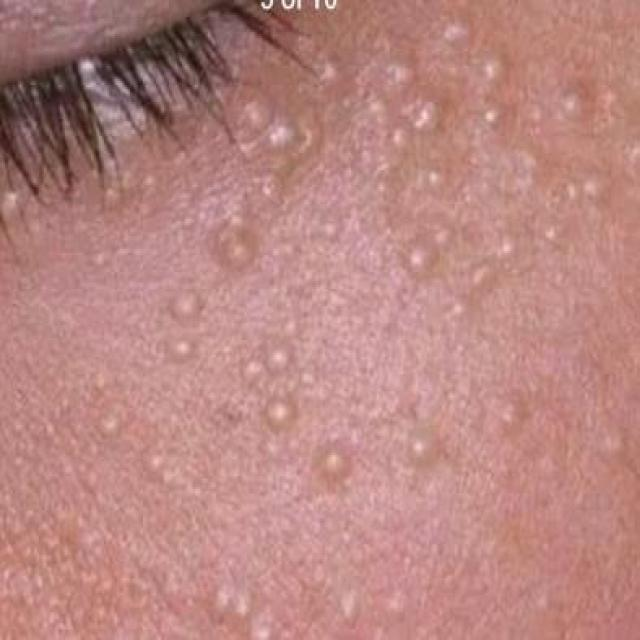milium: (206, 38, 353, 282), (367, 44, 448, 170), (231, 325, 301, 450), (404, 189, 490, 289), (156, 285, 206, 371), (394, 414, 454, 484), (198, 578, 262, 631), (315, 432, 360, 496), (470, 45, 512, 103), (92, 398, 134, 453), (549, 76, 589, 130)
